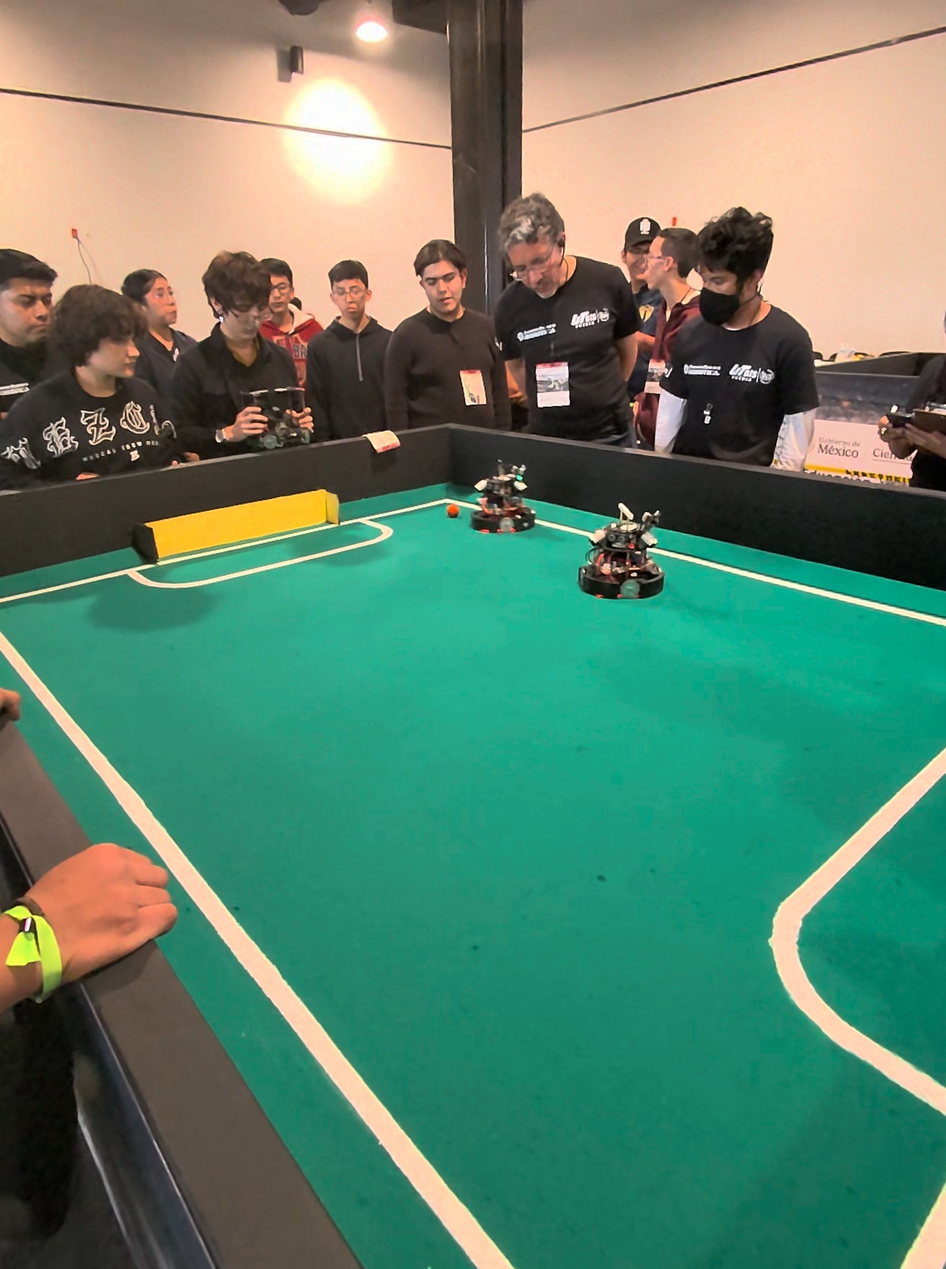Robot: (582, 502, 669, 605), (471, 457, 540, 538)
pelota: (446, 502, 460, 518)
